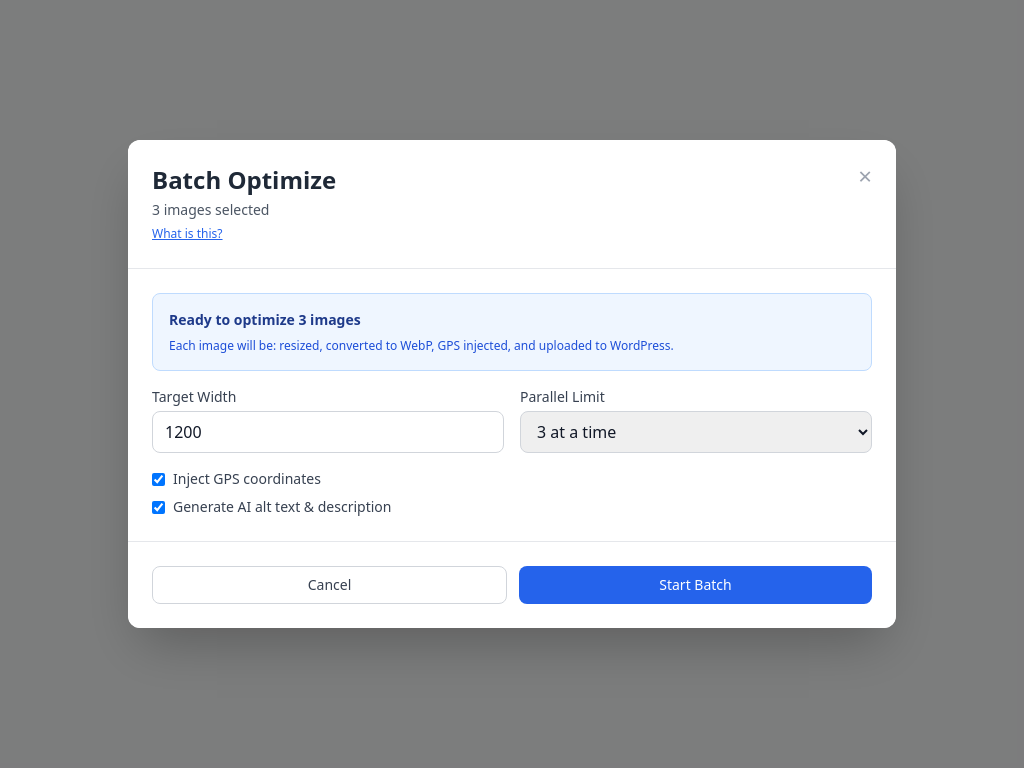
Scenario: BatchOptimizePanel › displays progress bar during optimization
The width and height of the screenshot is (1024, 768).
Click the button "Start Batch".
click(696, 585)  # box [519, 566, 872, 604]
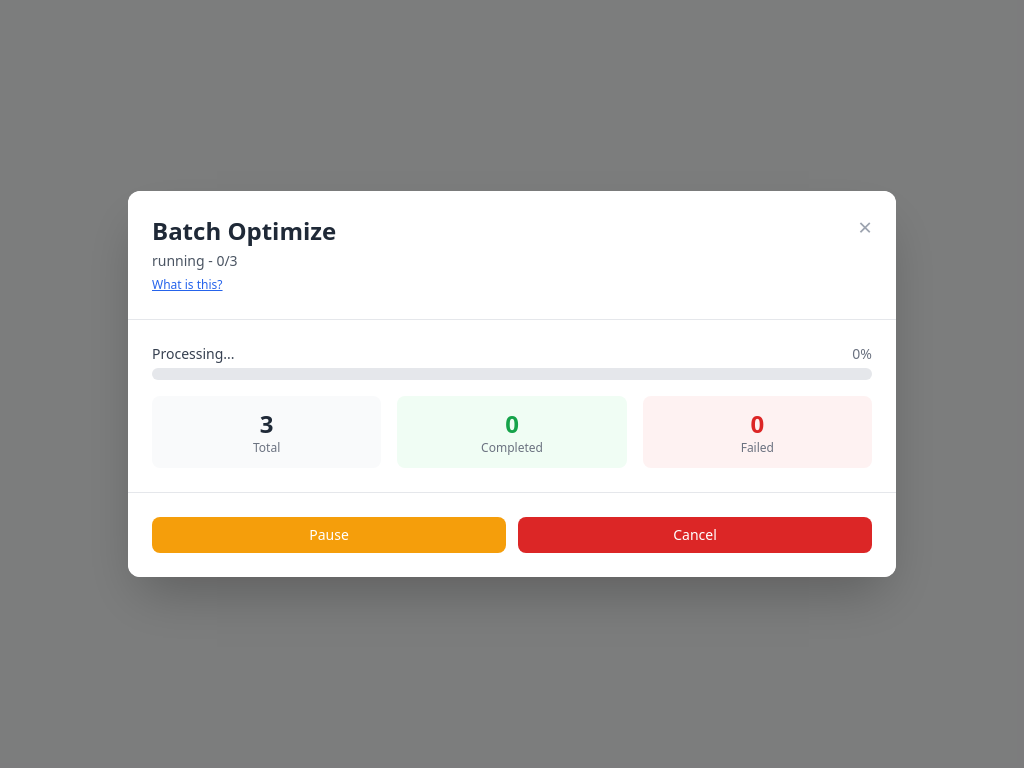
Now the text "Processing..." is shown, box [152, 344, 235, 364]
